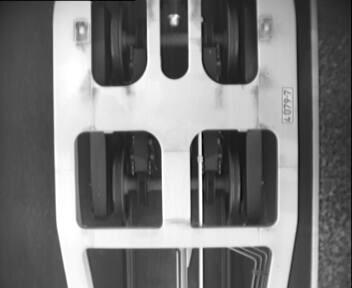twist_lock_2: (82, 1, 266, 92)
